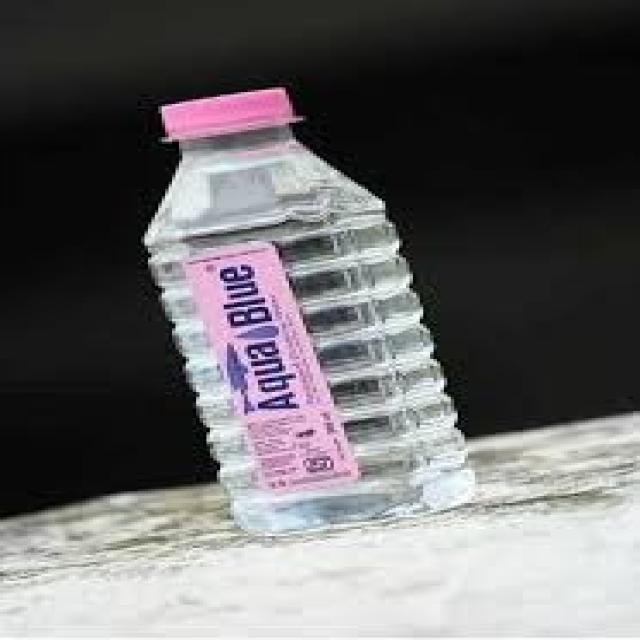bottle: (157, 66, 484, 591)
